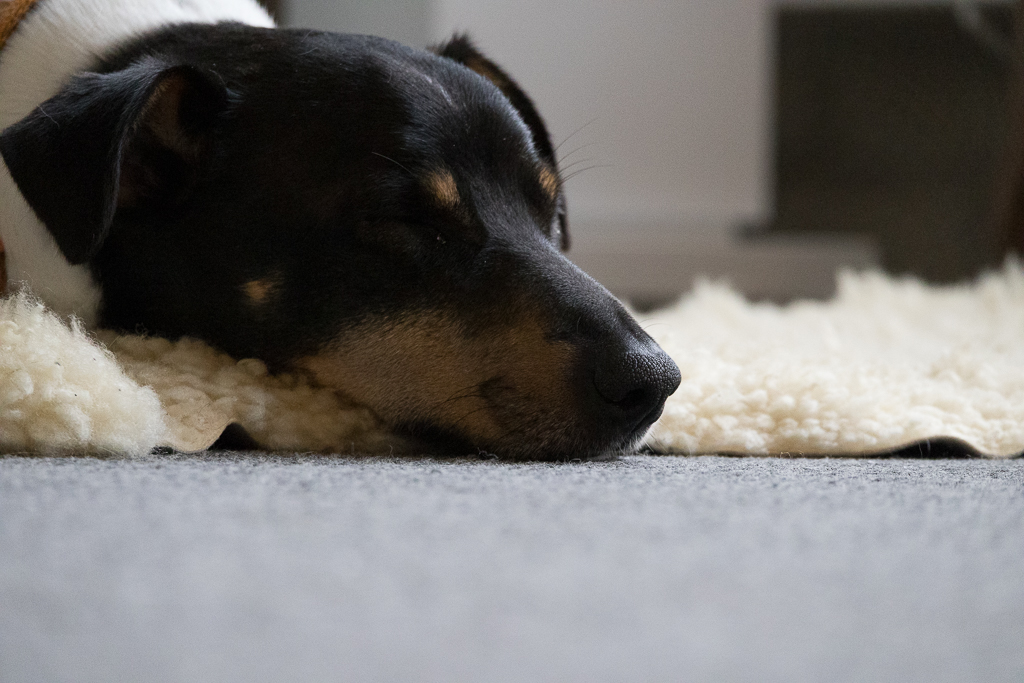Dog: (0, 0, 697, 480)
